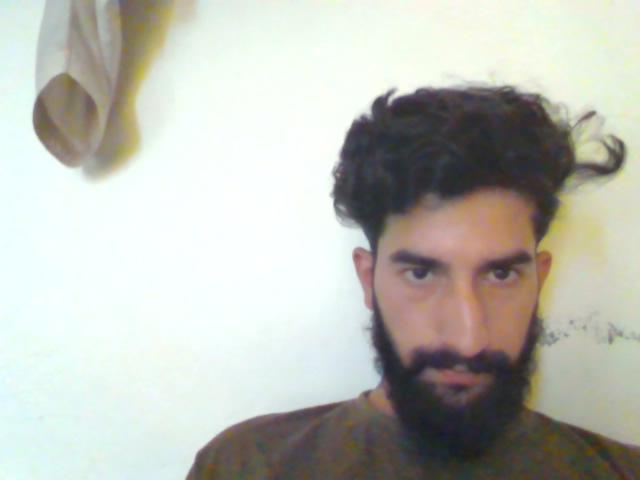hairnetless: (326, 61, 629, 264)
